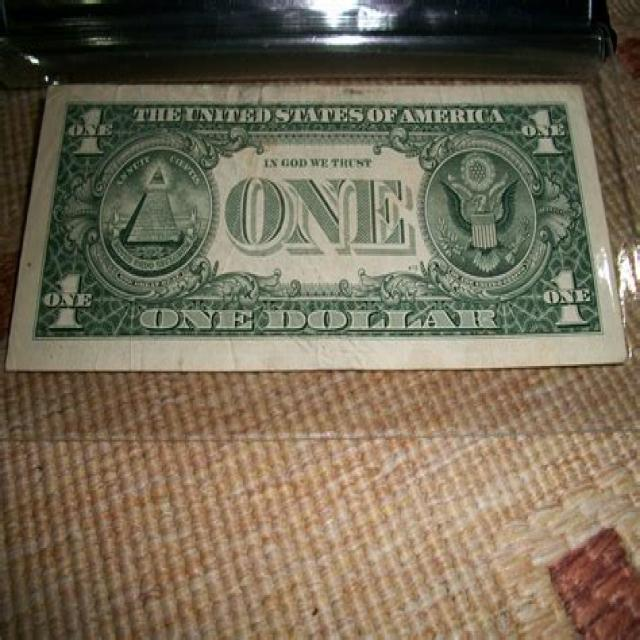One: (8, 84, 627, 358)
